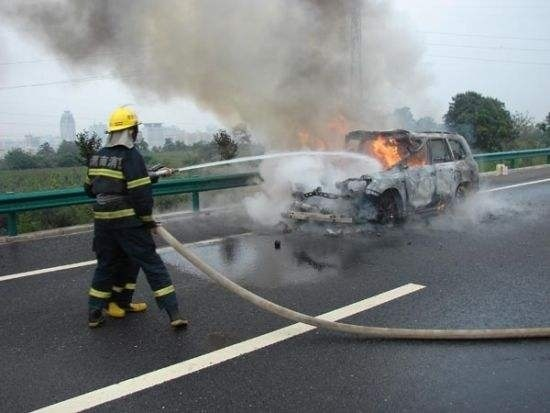fire: (289, 111, 436, 179)
